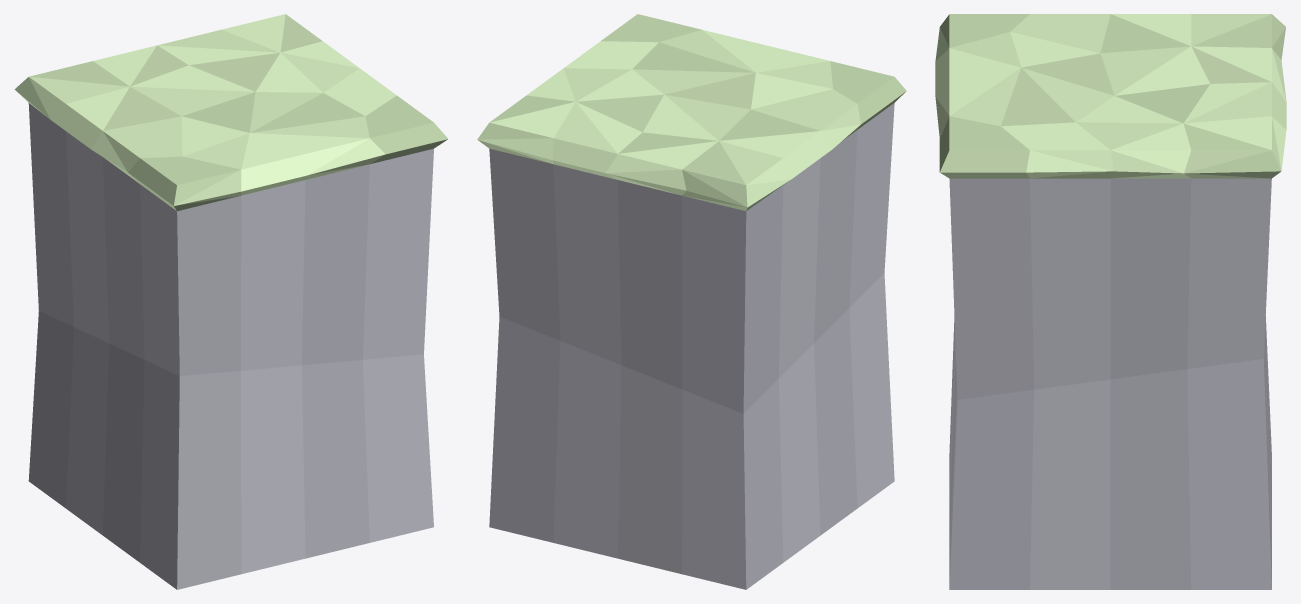
File: Fjord.fbx
3 renders of one model, left to right at view 1: azimuth 30°, elevation 25°; view 2: azimuth 150°, elevation 25°; view 3: azimuth 270°, elevation 25°, orthographic. The views are drawn at different scales.
Visible parts, largest first — view 1: Fjord; view 2: Fjord; view 3: Fjord.
Boxes of the visible parts, box(x1,y1,x2,y2) form: Fjord: box(14, 14, 447, 589); Fjord: box(477, 14, 906, 589); Fjord: box(935, 14, 1286, 589).
Bounding box in the file's own units: 54.58 × 75.66 × 54.45.
